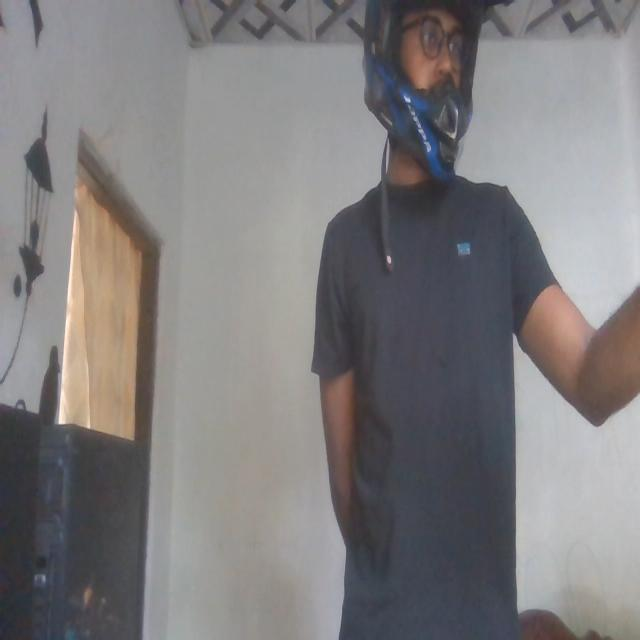Helmet_Wearer: (360, 0, 502, 201)
Person: (316, 0, 640, 640)
